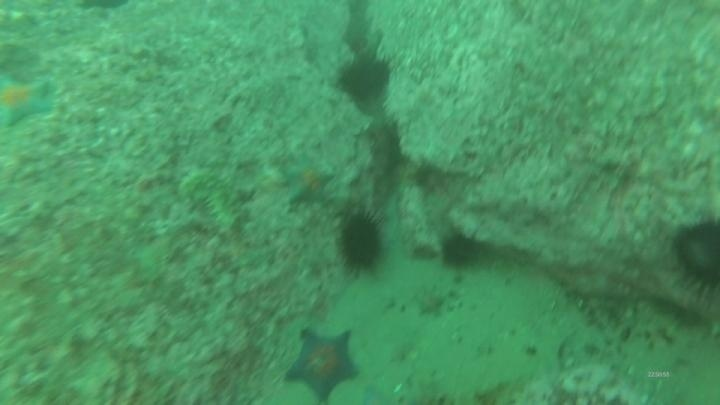echinus: (668, 212, 720, 301), (335, 208, 388, 275), (336, 54, 393, 104), (438, 231, 481, 271)
holothurian: (179, 168, 245, 235)
starfish: (282, 327, 362, 403), (1, 72, 57, 130), (279, 154, 337, 208), (413, 286, 449, 320)
